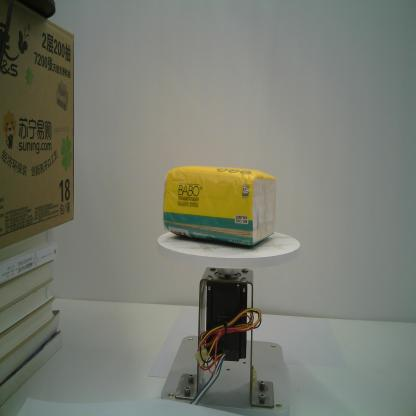Tissue: (160, 162, 278, 250)
